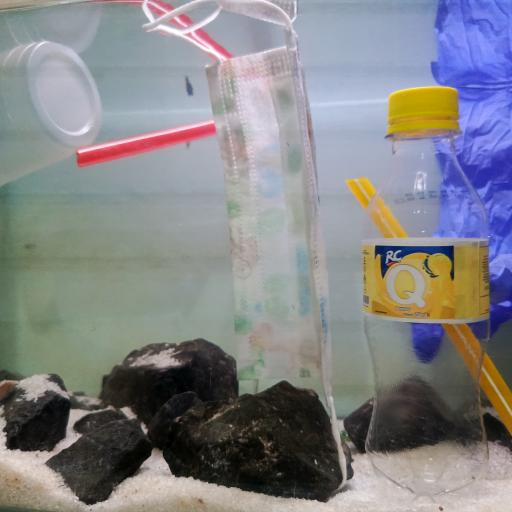bottle_cap: (388, 86, 460, 122)
glove: (412, 0, 512, 362)
mask: (140, 0, 332, 438)
plastic_bottle: (364, 86, 490, 512)
plastic_cup: (0, 41, 104, 191)
plastic_straw: (347, 176, 512, 433), (76, 119, 216, 169)
